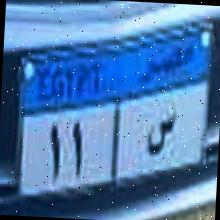1: (44, 122, 63, 186), (68, 115, 86, 178)
seen: (143, 112, 179, 162)
